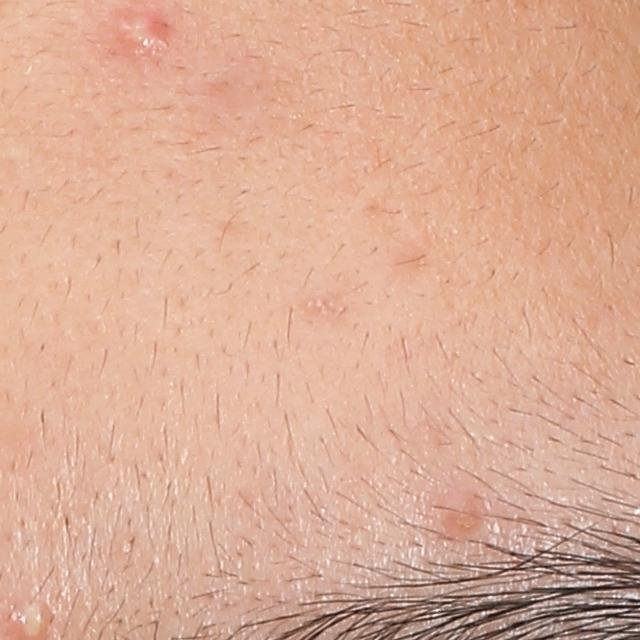papule: (116, 8, 169, 55)
